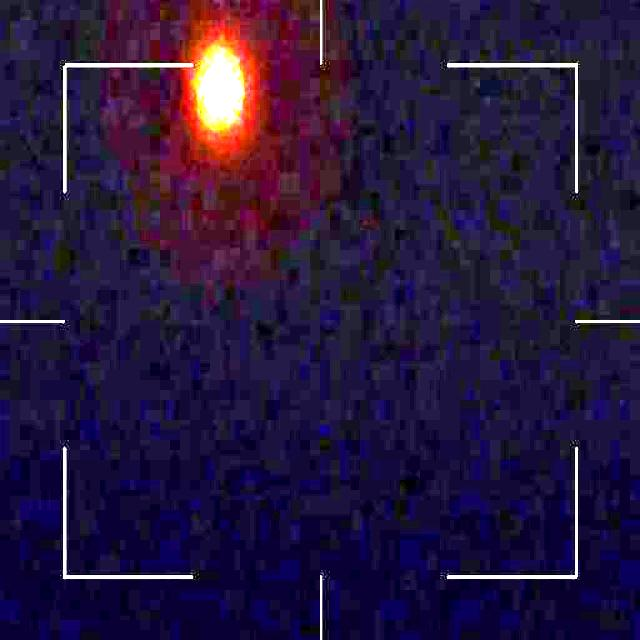bird: (196, 48, 244, 122)
